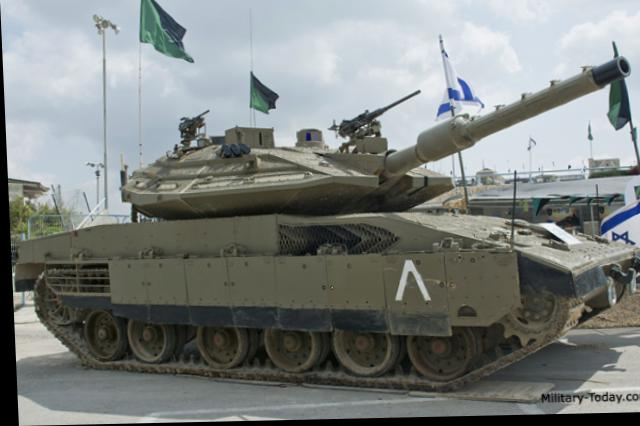tank: (9, 95, 636, 382)
